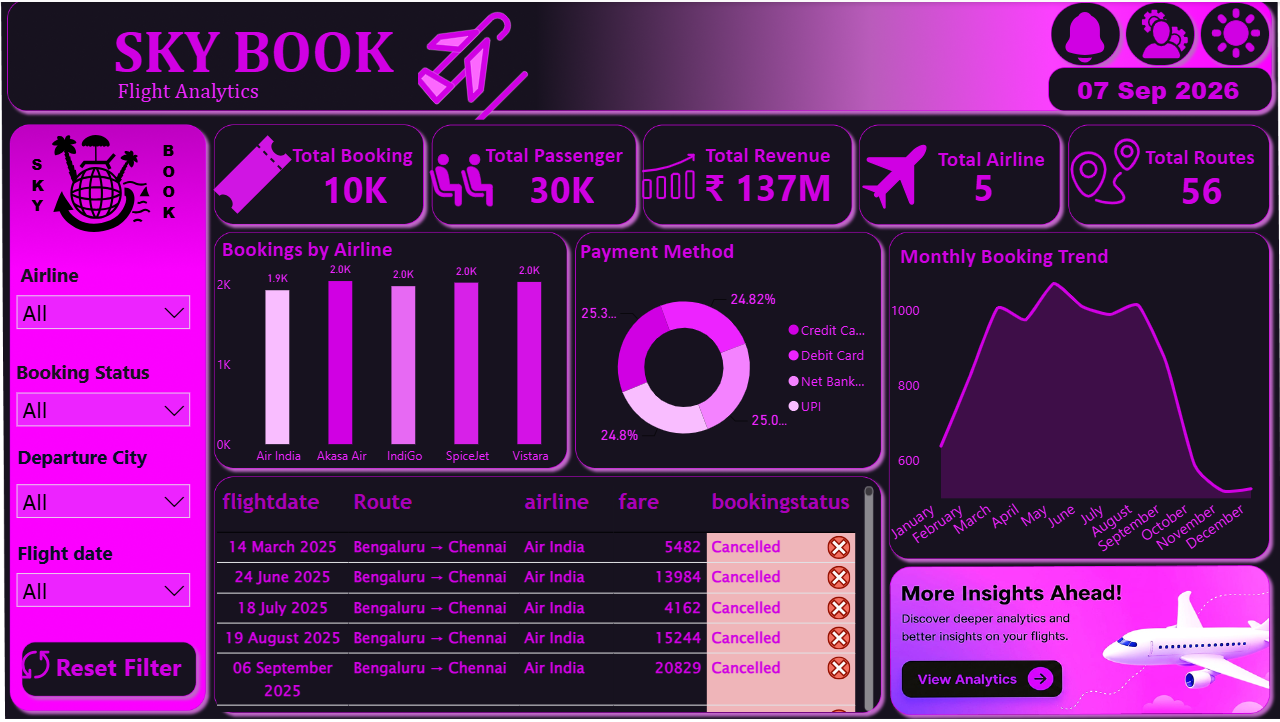

This screenshot's page, from the dashboard's own definition file:
{"tool":"powerbi","page":{"name":"Flight Overview","canvas":[1280,720],"ordinal":0},"visuals":[{"type":"image","box":[7.4,0,1272.8,719.8],"z":1000},{"type":"cardVisual","fields":{"Data":["customer_db_.Total Bookings"]},"box":[307,148.6,112.1,65.9],"z":2000},{"type":"cardVisual","fields":{"Data":["customer_db_.Total Airlines"]},"box":[954.6,141.6,126.2,74.3],"z":3000},{"type":"cardVisual","fields":{"Data":["customer_db_.Total Revenue"]},"box":[686.3,141.4,181.5,75.3],"z":4000},{"type":"cardVisual","fields":{"Data":["customer_db_.Total Passengers"]},"box":[512.8,143.6,105.3,76.2],"z":5000},{"type":"cardVisual","fields":{"Data":["customer_db_.Total Routes"]},"box":[1160.3,144.1,119.1,75],"z":6000},{"type":"cardVisual","fields":{"Data":["Min(customer_db_.Today's Date)"]},"box":[1060.3,44,214.7,78.2],"z":14000},{"type":"image","box":[394.1,0,167.6,122.1],"z":15000},{"type":"textbox","box":[113.7,8.2,305.5,113.7],"z":19000},{"type":"textbox","box":[291.1,132.9,143,41.8],"z":27000},{"type":"textbox","box":[933.8,136.8,144.1,42.6],"z":28000},{"type":"textbox","box":[702.6,133.5,142.7,41.9],"z":29000},{"type":"textbox","box":[1139.7,135.3,125,41.2],"z":30000},{"type":"textbox","box":[483.3,133.5,156.8,41.9],"z":31000},{"type":"image","box":[212.4,123.7,88,96],"z":32000},{"type":"image","box":[1064.7,122.4,79.1,92.5],"z":33000},{"type":"actionButton","box":[15,624.1,190.2,70.5],"z":33500},{"type":"image","box":[800.5,121.9,189.6,103.5],"z":34000},{"type":"image","box":[639.8,141.8,62.7,64.2],"z":35000},{"type":"image","box":[418.9,126.9,90,85.1],"z":36000},{"type":"textbox","box":[221,227.2,219.8,43.2],"z":37000},{"type":"textbox","box":[895.1,234.6,243.2,40.7],"z":38000},{"type":"textbox","box":[577.8,228.4,201.2,42],"z":39000},{"type":"actionButton","box":[895.8,651.6,174.7,43.2],"z":40000},{"type":"textbox","box":[17.2,350.6,170.1,41.2],"z":41000},{"type":"textbox","box":[20.6,254.3,134,43],"z":42000},{"type":"textbox","box":[18.9,434.8,173.6,41.2],"z":43000},{"type":"tableEx","fields":{"Values":["customer_db_.flightdate","customer_db_.Route","customer_db_.airline","customer_db_.fare","customer_db_.bookingstatus"]},"box":[216.5,476,663.3,233.7],"z":45000},{"type":"image","box":[1034.5,0,100,70.2],"z":47000},{"type":"image","box":[1119.4,3.2,88.1,57.9],"z":49000},{"type":"image","box":[1189.7,1.7,89.7,58.6],"z":50000},{"type":"textbox","box":[18.9,529.3,132.3,41.2],"z":51000},{"type":"slicer","fields":{"Values":["customer_db_.airline"]},"box":[12.8,282.1,192.4,68.4],"z":52000},{"type":"slicer","fields":{"Values":["customer_db_.bookingstatus"]},"box":[12.8,378.3,192.4,68.4],"z":53000},{"type":"slicer","fields":{"Values":["customer_db_.departurecity"]},"box":[12.8,470.2,192.4,68.4],"z":54000},{"type":"slicer","fields":{"Values":["customer_db_.flightdate"]},"box":[12.8,557.8,192.4,66.3],"z":55000},{"type":"textbox","box":[32.1,145.3,40.6,74.8],"z":56000},{"type":"textbox","box":[163,131.8,40.9,113.6],"z":57000},{"type":"image","box":[41.3,126.3,131.7,108.4],"z":58000},{"type":"clusteredColumnChart","fields":{"Y":["customer_db_.Total Bookings"],"Category":["customer_db_.airline"]},"box":[215.8,227.5,360.8,242.5],"z":62000},{"type":"donutChart","fields":{"Y":["customer_db_.Total Bookings"],"Category":["customer_db_.paymentmethod"]},"box":[577.4,256.5,305.6,213.7],"z":63000},{"type":"lineChart","fields":{"Y":["customer_db_.Total Bookings"],"Category":["customer_db_.flightdate.Variation.Date Hierarchy.Month"]},"box":[880.6,254.8,385.5,315.3],"z":64000},{"type":"textbox","box":[117.4,69.6,173.9,76.1],"z":66000},{"type":"textbox","box":[56,639.4,159.5,54.6],"z":124001},{"type":"image","box":[20.1,636.5,43.1,44.5],"z":124002}]}

Visuals, with their boxes in screenshot pixels (x1, y1, x2, y2), scaled from the page's 1280x720 canvas onto the 1280x722 screenshot:
image: [x1=7, y1=0, x2=1279, y2=721]
cardVisual - customer_db_.Total Bookings: [x1=307, y1=149, x2=419, y2=215]
cardVisual - customer_db_.Total Airlines: [x1=955, y1=142, x2=1081, y2=216]
cardVisual - customer_db_.Total Revenue: [x1=686, y1=142, x2=868, y2=217]
cardVisual - customer_db_.Total Passengers: [x1=513, y1=144, x2=618, y2=220]
cardVisual - customer_db_.Total Routes: [x1=1160, y1=145, x2=1279, y2=220]
cardVisual - Min(customer_db_.Today's Date): [x1=1060, y1=44, x2=1275, y2=123]
image: [x1=394, y1=0, x2=562, y2=122]
textbox: [x1=114, y1=8, x2=419, y2=122]
textbox: [x1=291, y1=133, x2=434, y2=175]
textbox: [x1=934, y1=137, x2=1078, y2=180]
textbox: [x1=703, y1=134, x2=845, y2=176]
textbox: [x1=1140, y1=136, x2=1265, y2=177]
textbox: [x1=483, y1=134, x2=640, y2=176]
image: [x1=212, y1=124, x2=300, y2=220]
image: [x1=1065, y1=123, x2=1144, y2=215]
actionButton: [x1=15, y1=626, x2=205, y2=697]
image: [x1=800, y1=122, x2=990, y2=226]
image: [x1=640, y1=142, x2=702, y2=207]
image: [x1=419, y1=127, x2=509, y2=213]
textbox: [x1=221, y1=228, x2=441, y2=271]
textbox: [x1=895, y1=235, x2=1138, y2=276]
textbox: [x1=578, y1=229, x2=779, y2=271]
actionButton: [x1=896, y1=653, x2=1070, y2=697]
textbox: [x1=17, y1=352, x2=187, y2=393]
textbox: [x1=21, y1=255, x2=155, y2=298]
textbox: [x1=19, y1=436, x2=192, y2=477]
tableEx - customer_db_.flightdate x customer_db_.Route: [x1=216, y1=477, x2=880, y2=712]
image: [x1=1034, y1=0, x2=1134, y2=70]
image: [x1=1119, y1=3, x2=1208, y2=61]
image: [x1=1190, y1=2, x2=1279, y2=60]
textbox: [x1=19, y1=531, x2=151, y2=572]
slicer - customer_db_.airline: [x1=13, y1=283, x2=205, y2=351]
slicer - customer_db_.bookingstatus: [x1=13, y1=379, x2=205, y2=448]
slicer - customer_db_.departurecity: [x1=13, y1=472, x2=205, y2=540]
slicer - customer_db_.flightdate: [x1=13, y1=559, x2=205, y2=626]
textbox: [x1=32, y1=146, x2=73, y2=221]
textbox: [x1=163, y1=132, x2=204, y2=246]
image: [x1=41, y1=127, x2=173, y2=235]
clusteredColumnChart - customer_db_.Total Bookings x customer_db_.airline: [x1=216, y1=228, x2=577, y2=471]
donutChart - customer_db_.Total Bookings x customer_db_.paymentmethod: [x1=577, y1=257, x2=883, y2=472]
lineChart - customer_db_.Total Bookings x customer_db_.flightdate.Variation.Date Hierarchy.Month: [x1=881, y1=256, x2=1266, y2=572]
textbox: [x1=117, y1=70, x2=291, y2=146]
textbox: [x1=56, y1=641, x2=216, y2=696]
image: [x1=20, y1=638, x2=63, y2=683]
